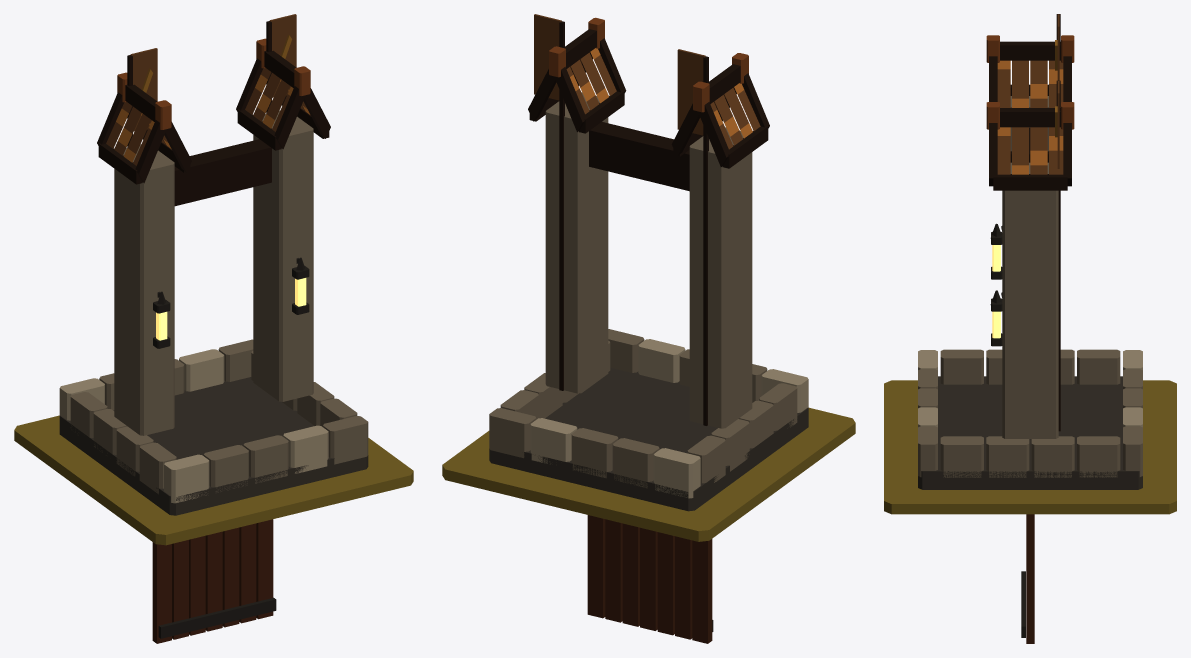
File: gate_t4.glb
The picture shows the model from 3 angles, left to right: view 1: azimuth 30°, elevation 25°; view 2: azimuth 150°, elevation 25°; view 3: azimuth 270°, elevation 25°; orthographic projection. The views are drawn at different scales.
Parts seen in each view (by area): view 1: MMR | gate | T04 Architecture.001, MMR | gate | Tier 04 Ground.001, MMR | gate | T04 Lift Gate.001, MMR | gate | T04 Banner Flag 2.001, MMR | gate | T04 Banner Flag 1.001; view 2: MMR | gate | T04 Architecture.001, MMR | gate | Tier 04 Ground.001, MMR | gate | T04 Lift Gate.001, MMR | gate | T04 Banner Flag 1.001, MMR | gate | T04 Banner Flag 2.001; view 3: MMR | gate | T04 Architecture.001, MMR | gate | Tier 04 Ground.001, MMR | gate | T04 Lift Gate.001.
Part boxes in pixels (bbox=[...]): MMR | gate | T04 Architecture.001: bbox=[59, 21, 368, 515]; MMR | gate | Tier 04 Ground.001: bbox=[14, 415, 413, 545]; MMR | gate | T04 Lift Gate.001: bbox=[152, 519, 276, 643]; MMR | gate | T04 Banner Flag 2.001: bbox=[269, 14, 296, 97]; MMR | gate | T04 Banner Flag 1.001: bbox=[130, 48, 157, 131]; MMR | gate | T04 Architecture.001: bbox=[489, 17, 808, 511]; MMR | gate | Tier 04 Ground.001: bbox=[442, 407, 855, 541]; MMR | gate | T04 Lift Gate.001: bbox=[587, 515, 713, 643]; MMR | gate | T04 Banner Flag 1.001: bbox=[677, 49, 705, 135]; MMR | gate | T04 Banner Flag 2.001: bbox=[534, 14, 561, 100]; MMR | gate | T04 Architecture.001: bbox=[918, 14, 1142, 489]; MMR | gate | Tier 04 Ground.001: bbox=[884, 380, 1176, 514]; MMR | gate | T04 Lift Gate.001: bbox=[1021, 514, 1034, 643].
Bounding box in the file's own units: 1.3 × 2.79 × 1.3.
Materials: 2 (1 with a texture image).
